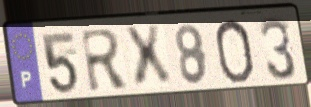3: (259, 14, 298, 82)
5: (39, 29, 82, 96)
8: (173, 22, 208, 87)
O: (212, 17, 256, 86)
R: (78, 26, 131, 95)
X: (121, 22, 175, 92)
